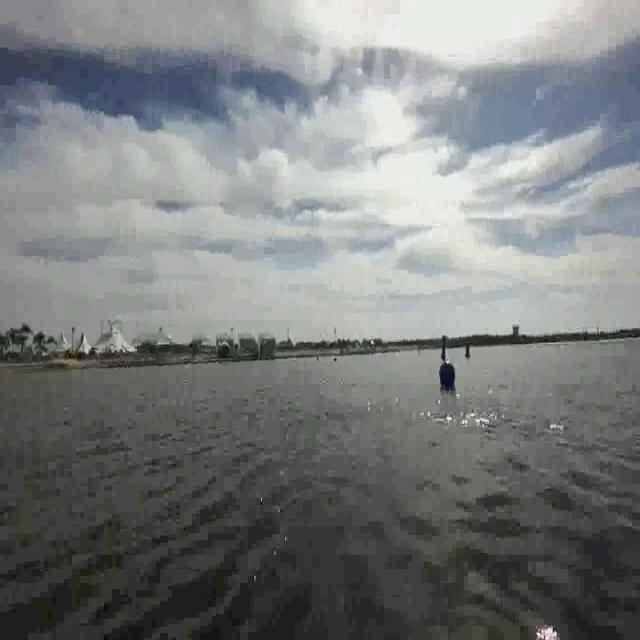blue-buoy: (439, 361, 456, 389)
